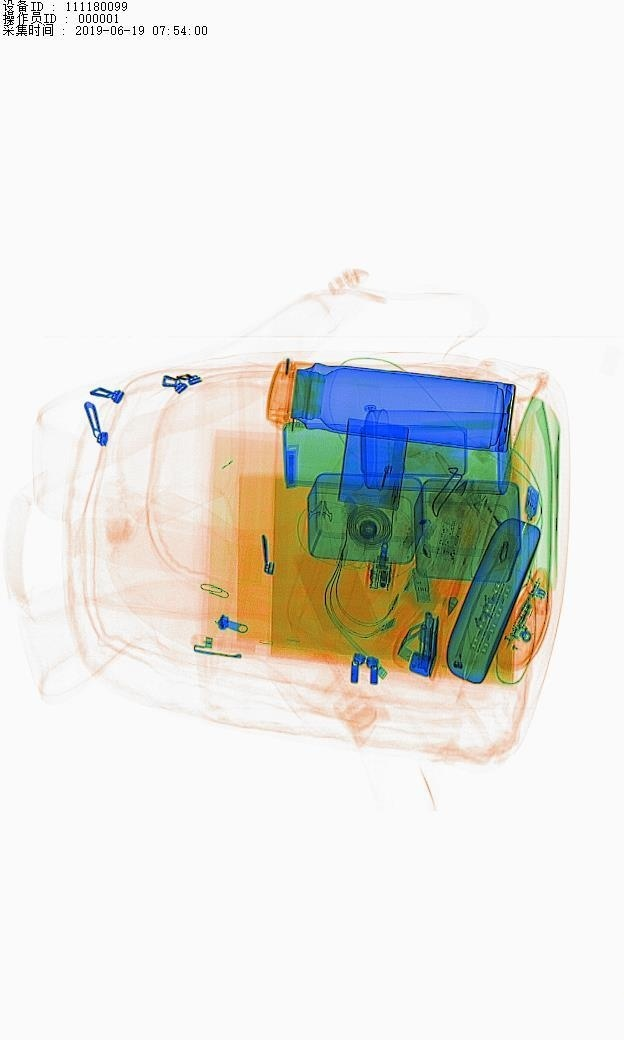NonmetallicFire: (454, 482, 530, 562)
